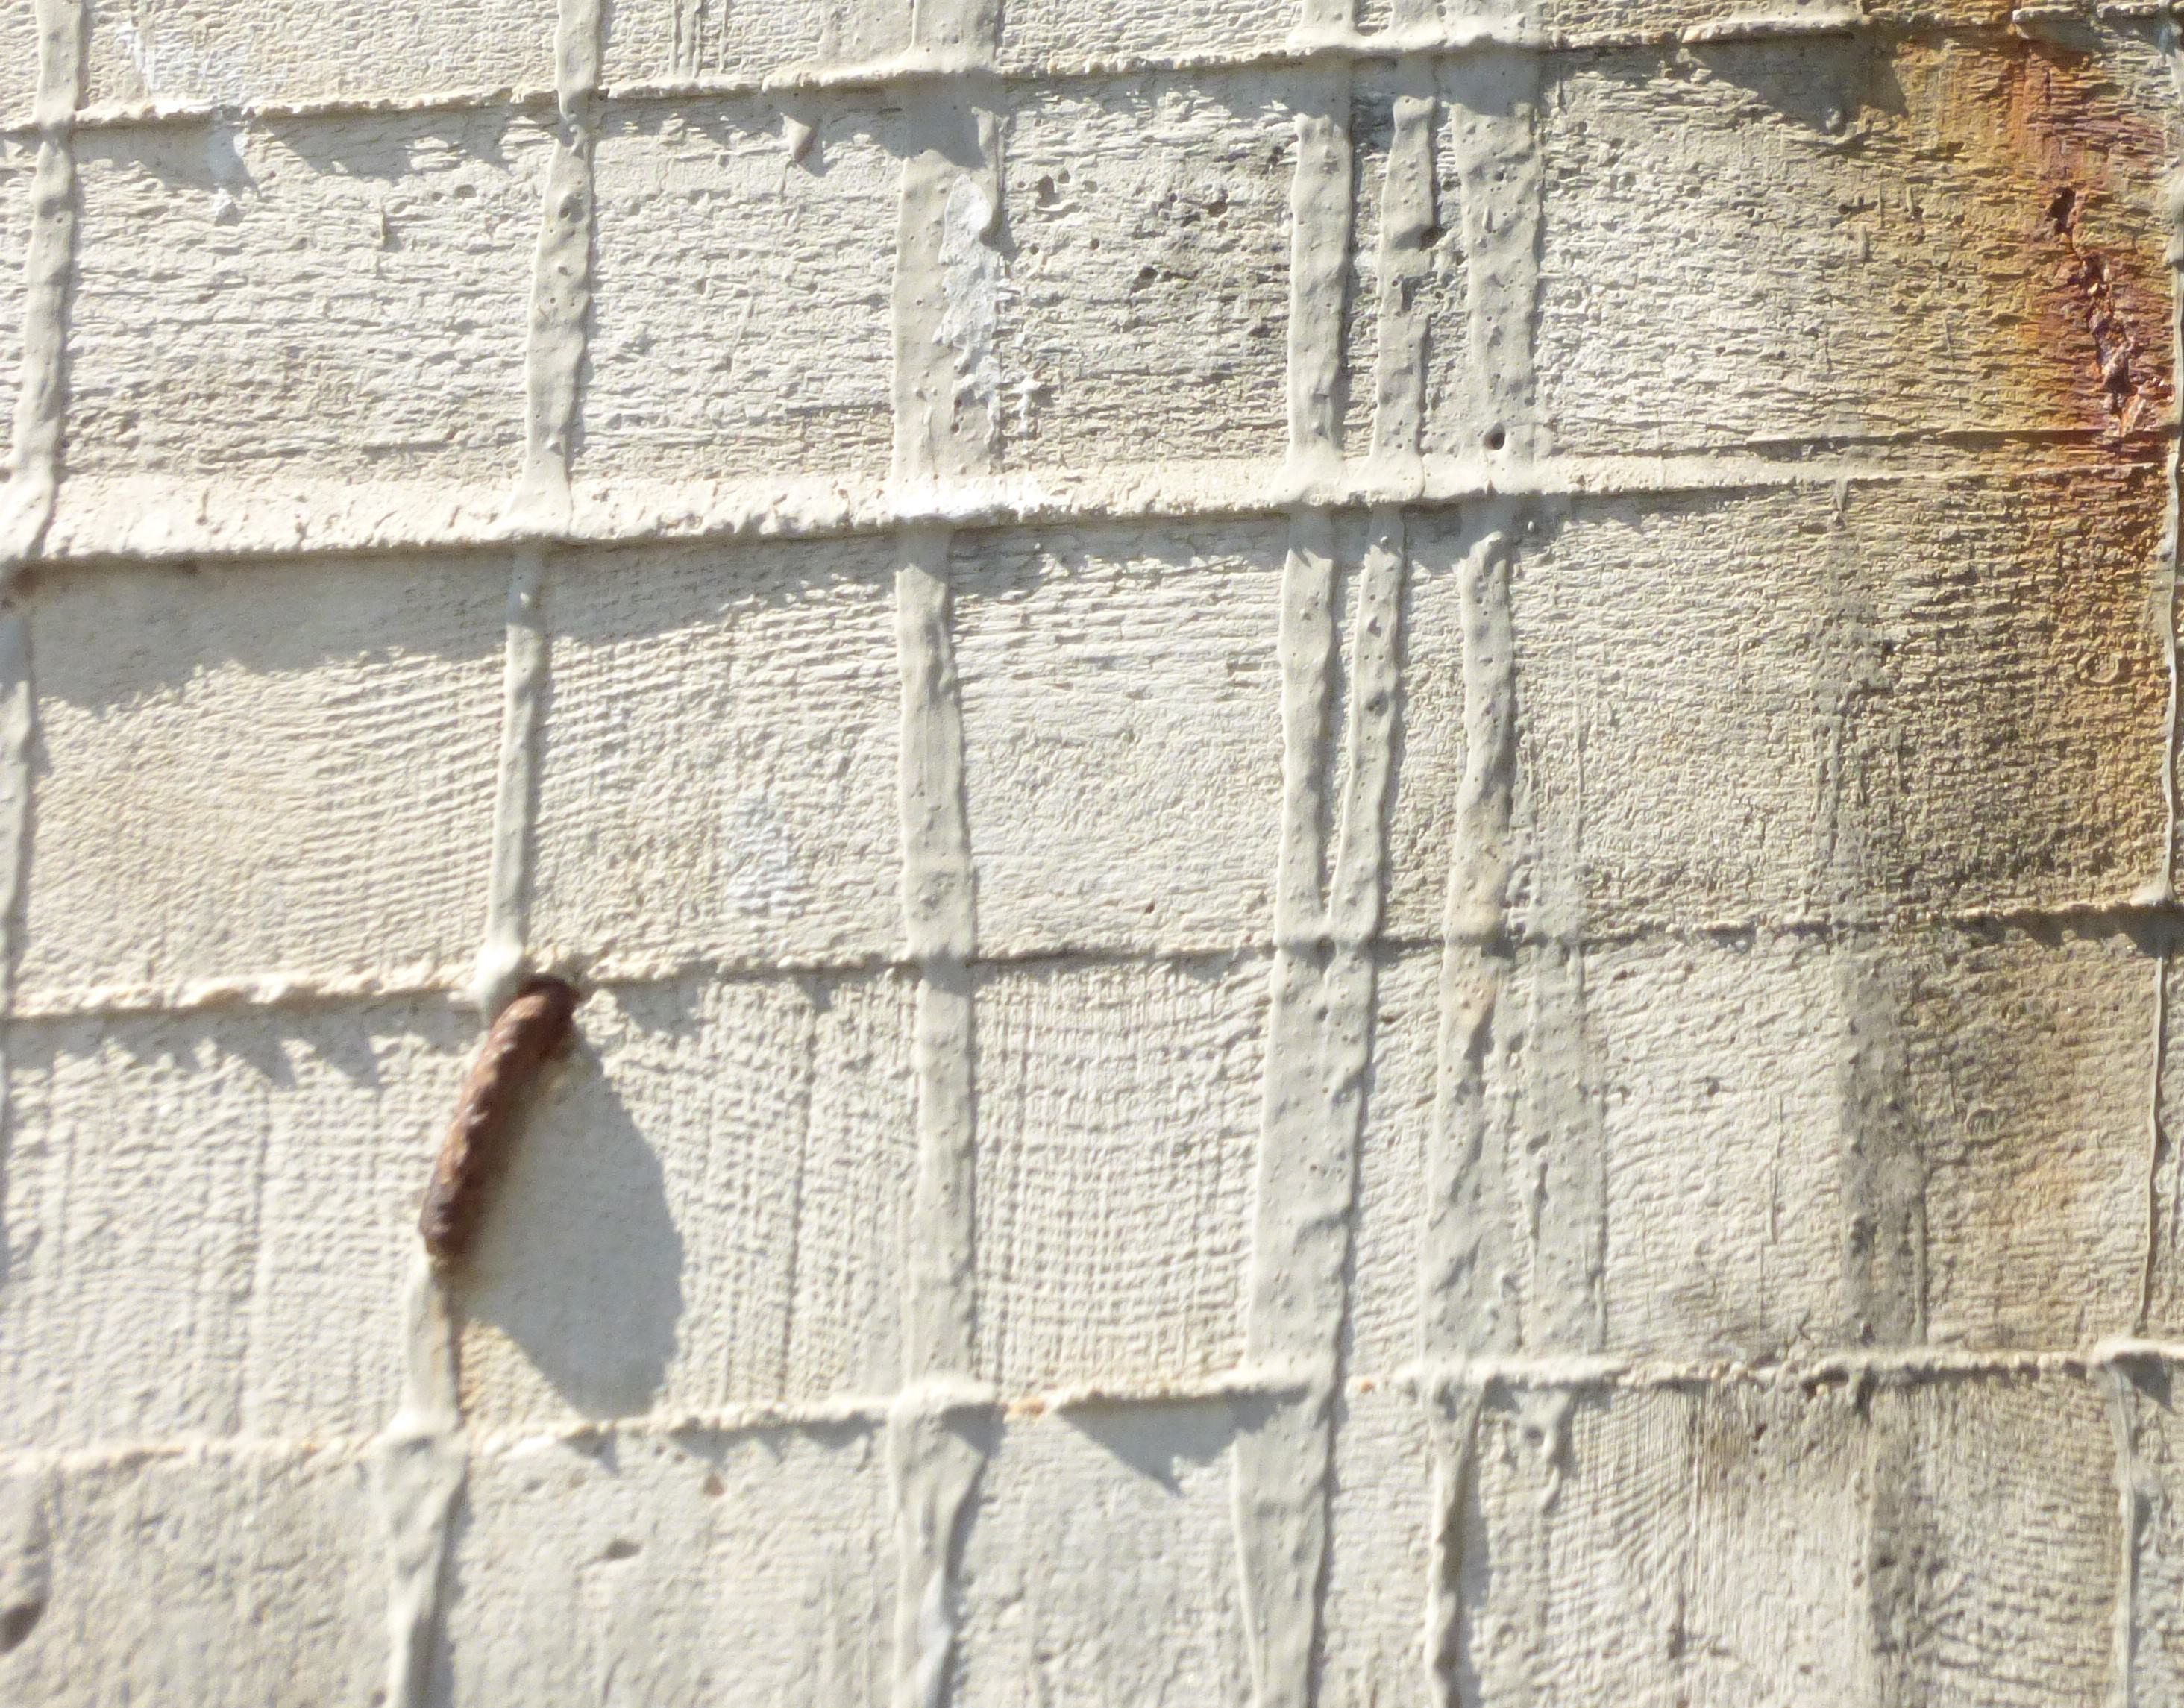Corrosion: (1819, 0, 2184, 1708)
Exposed reinforcement: (418, 985, 573, 1260)
